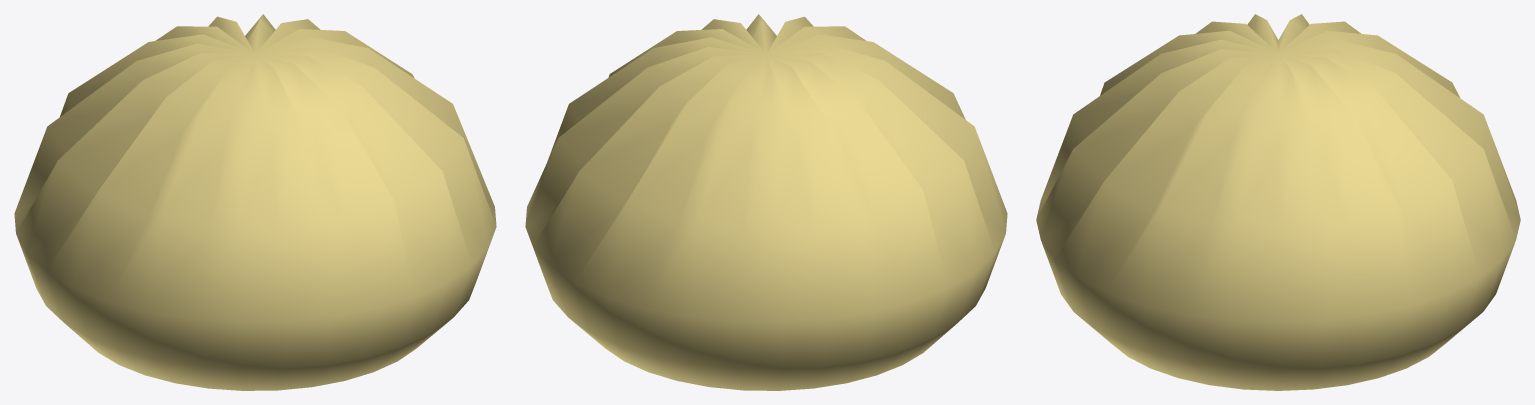
Rendered from Dumpling.fbx.
3 views of the same model, side by side, from view 1: azimuth 30°, elevation 25°; view 2: azimuth 150°, elevation 25°; view 3: azimuth 270°, elevation 25° (orthographic).
Visible parts, largest first — view 1: dumpling; view 2: dumpling; view 3: dumpling.
Boxes of the visible parts, left/top/right/bottom form: dumpling: left=14, top=14, right=496, bottom=390; dumpling: left=525, top=14, right=1007, bottom=390; dumpling: left=1036, top=14, right=1520, bottom=390.
Bounding box in the file's own units: 268 × 173 × 268.
